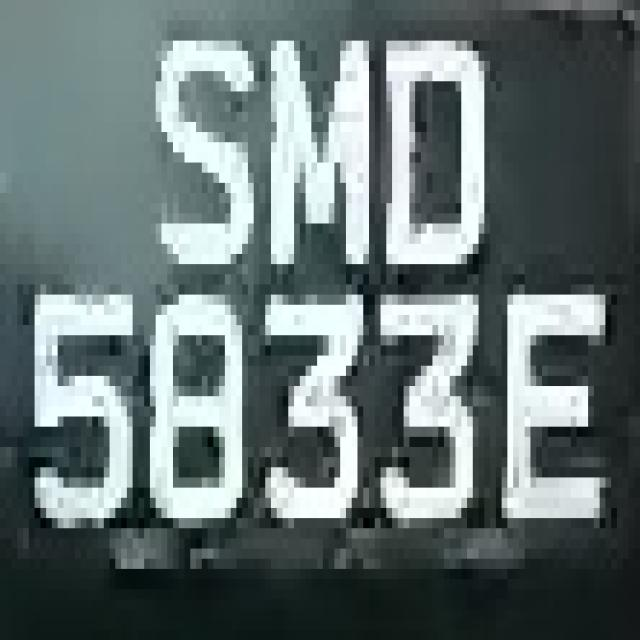3: (248, 254, 369, 559), (375, 274, 484, 569)
5: (17, 254, 133, 569)
8: (138, 264, 248, 528)
D: (364, 20, 484, 305)
E: (496, 254, 623, 589)
M: (236, 31, 375, 294)
S: (133, 20, 265, 295)
